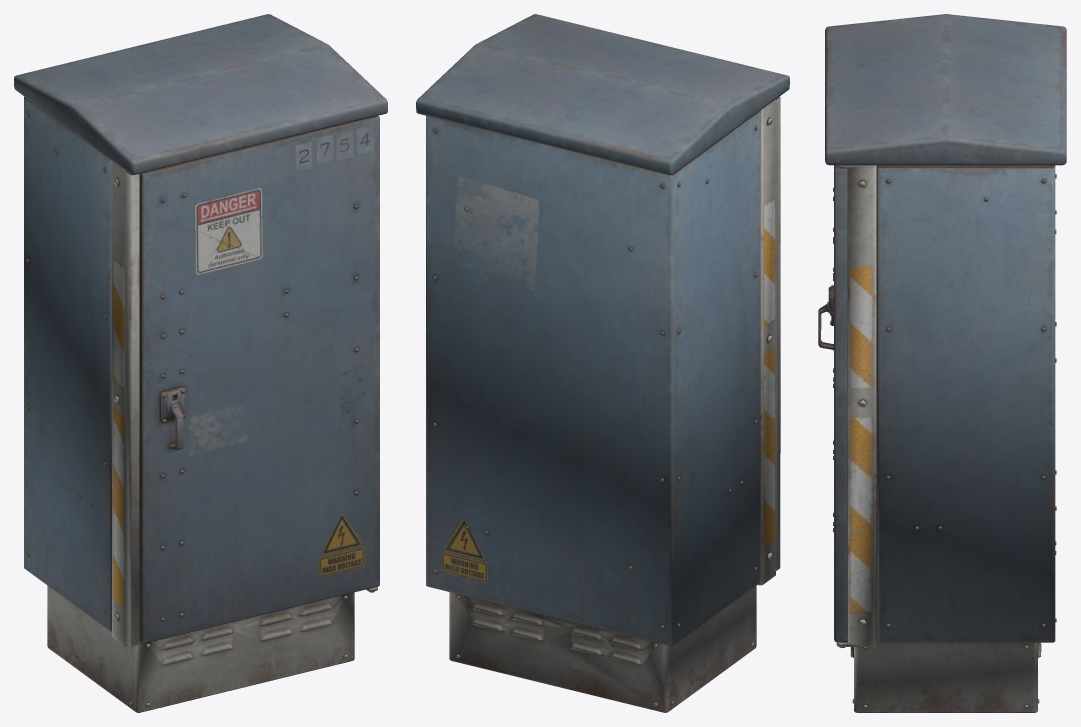
3 views of the same model, side by side, from view 1: azimuth 30°, elevation 25°; view 2: azimuth 150°, elevation 25°; view 3: azimuth 270°, elevation 25° (orthographic).
Parts seen in each view (by area): view 1: utility_box_01_box; view 2: utility_box_01_box; view 3: utility_box_01_box.
Boxes of the visible parts, <box> form: utility_box_01_box: <box>14,14,387,712</box>; utility_box_01_box: <box>416,14,789,712</box>; utility_box_01_box: <box>818,14,1066,712</box>.
Bounding box in the file's own units: 0.52 × 1.12 × 0.432.
Materials: 1 (1 with a texture image).
